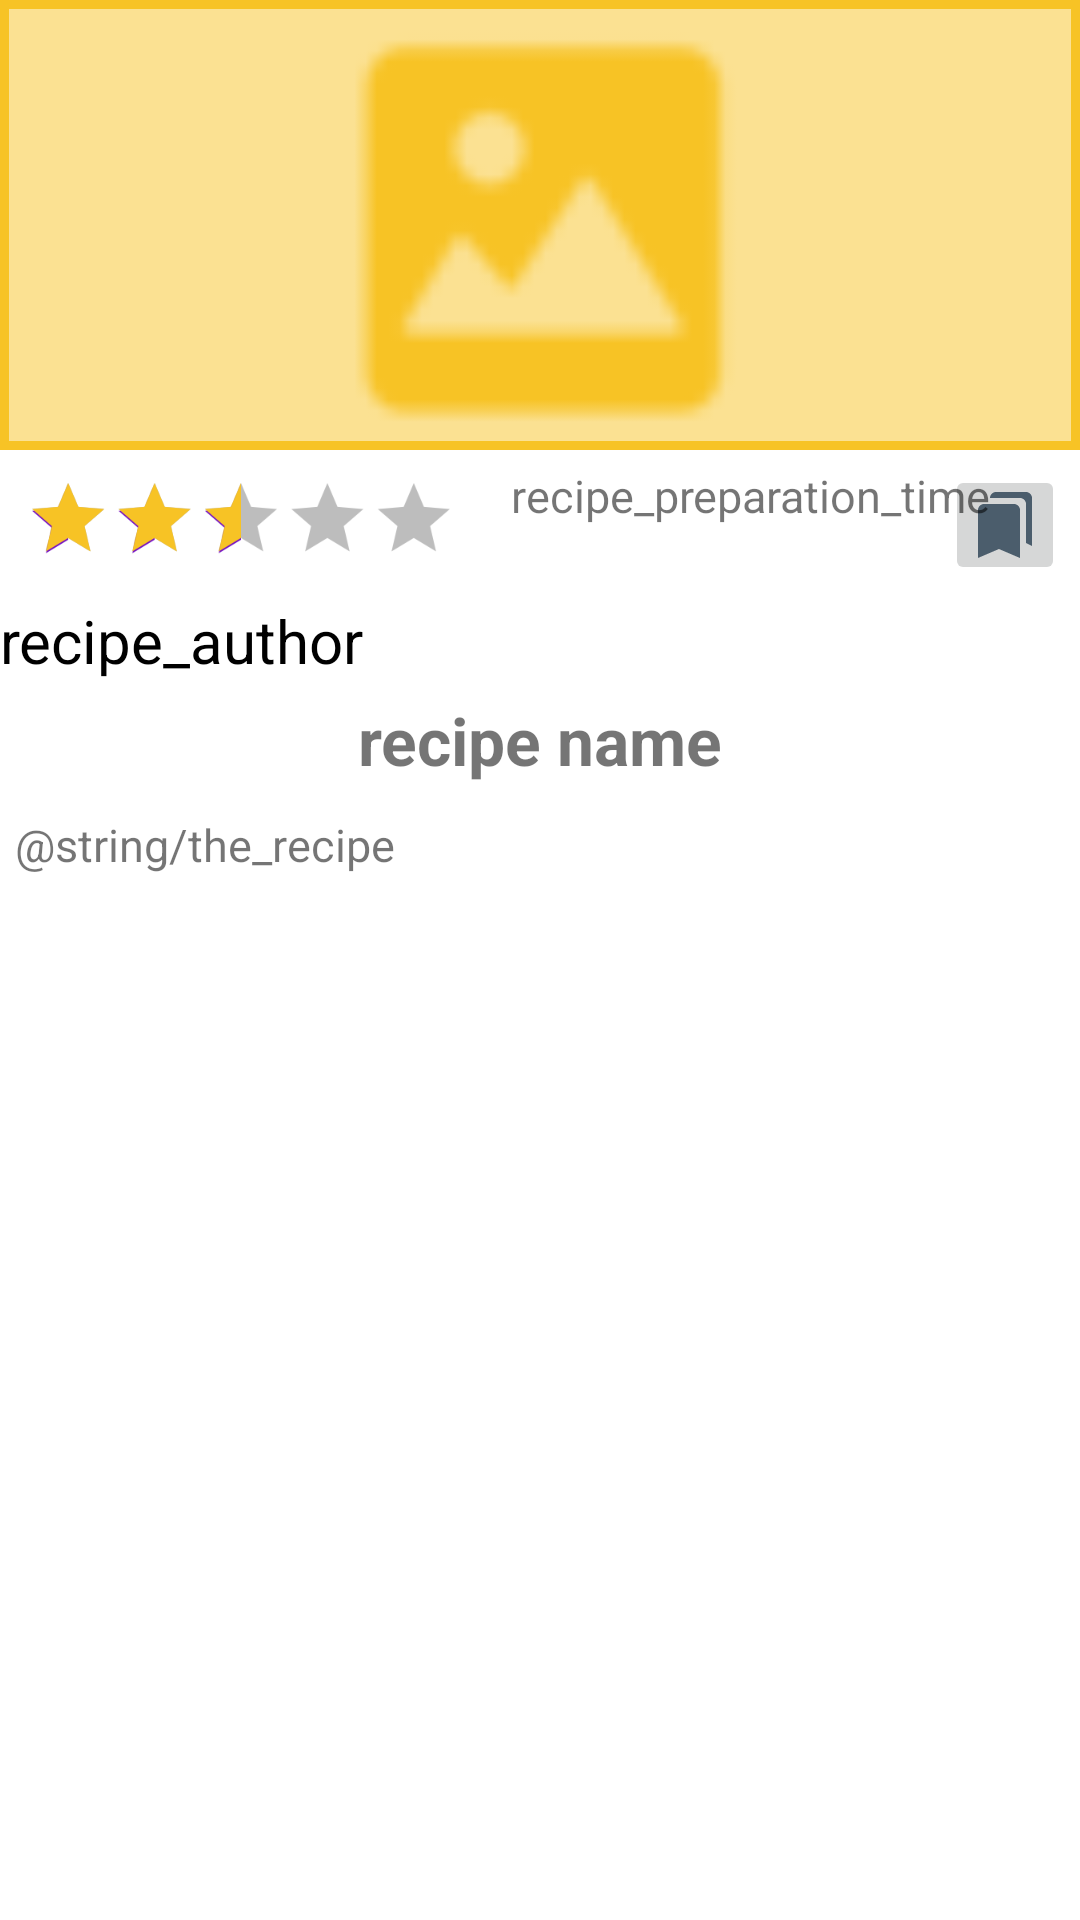

Locate icon controls on the screen. Image size 1080px x 1920px, boxes as (x1, y1, x2, y2).
saved: (945, 483, 1053, 567)
